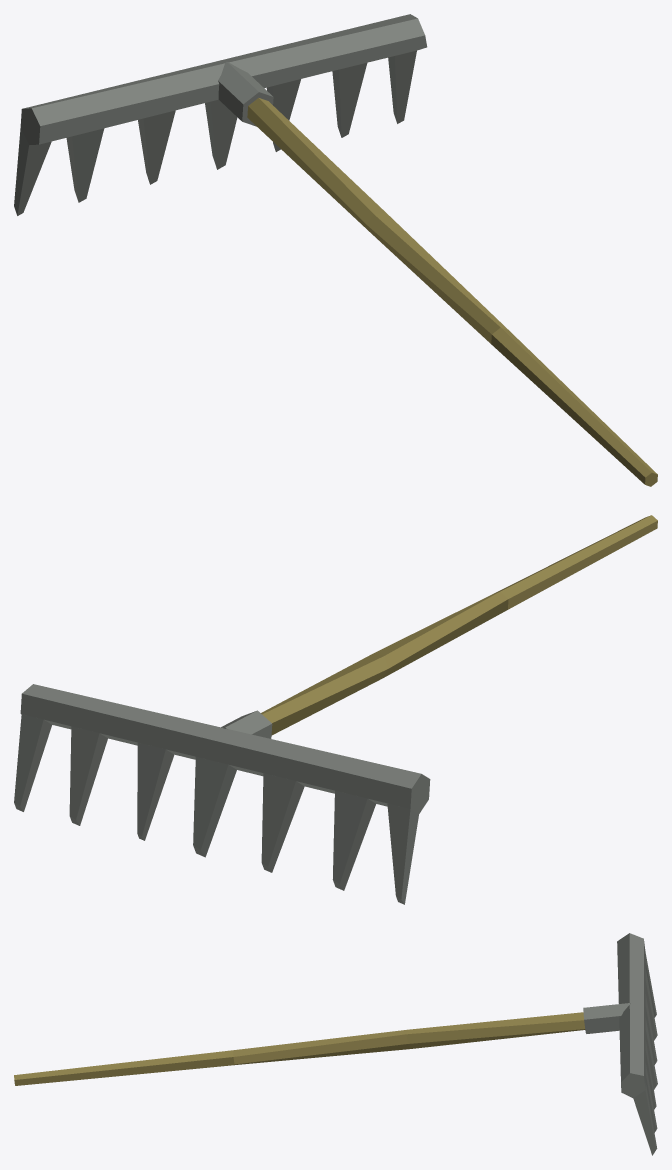
The model's file is gardentool01.fbx.
3 views of the same model, one above another, from view 1: azimuth 30°, elevation 25°; view 2: azimuth 150°, elevation 25°; view 3: azimuth 270°, elevation 25° (orthographic). The views are drawn at different scales.
Parts seen in each view (by area): view 1: Cylinder.002; view 2: Cylinder.002; view 3: Cylinder.002.
Part boxes in pixels (x1,y1,x2,y2): Cylinder.002: (14,14,657,486); Cylinder.002: (14,515,657,904); Cylinder.002: (14,933,657,1155).
Size of the model in its own units: 0.3939 by 0.1172 by 0.7777.
